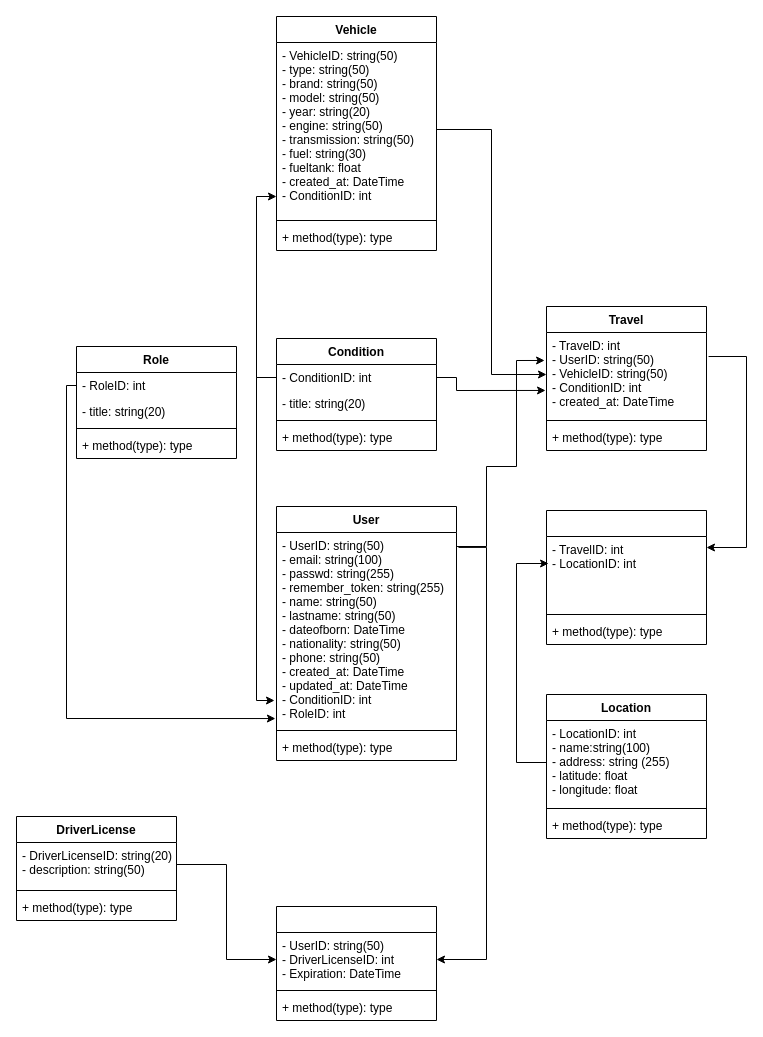
Image size: 763x1037. Some labels were removed from this diagram. Each missing label, with the box of its shape:
Travel_Location: (546, 510, 706, 644)
User_DriverLicense: (276, 906, 436, 1020)
